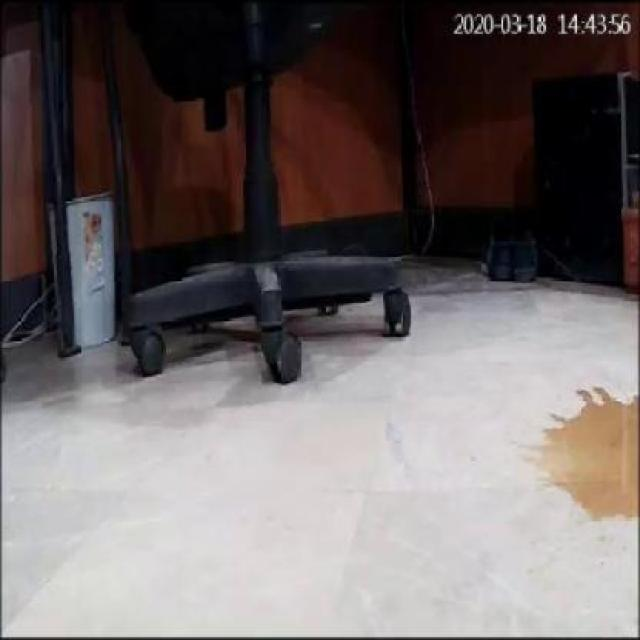spillage: (540, 392, 639, 523)
